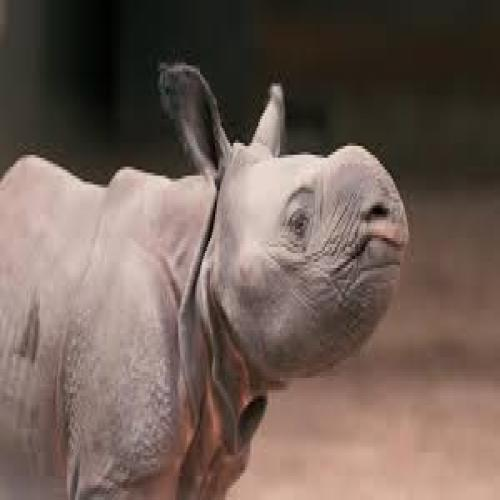rhino-endangered: (0, 56, 410, 500)
